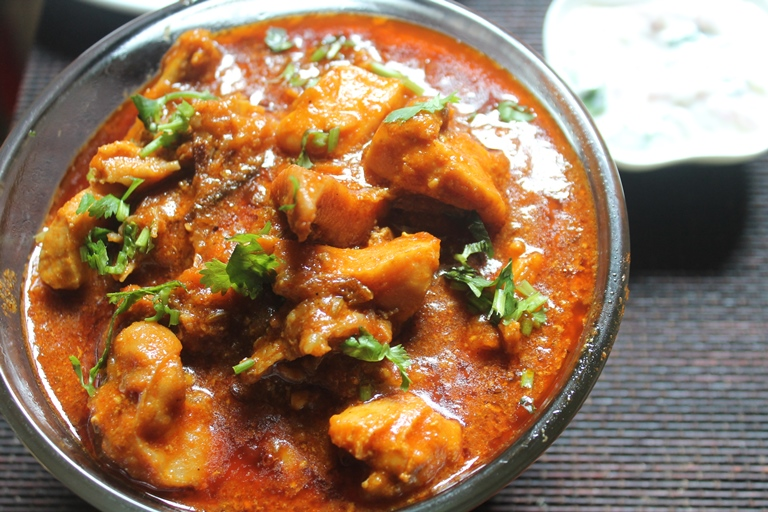chicken_curry: (89, 34, 608, 495)
